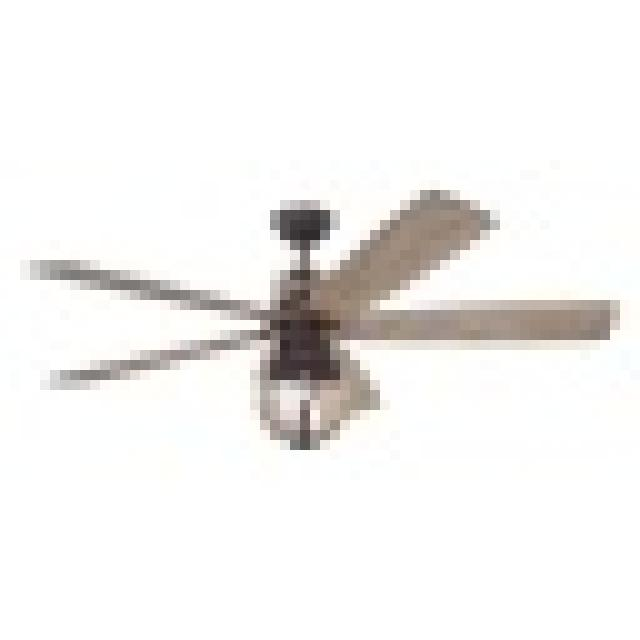Bulb: (12, 175, 629, 480)
